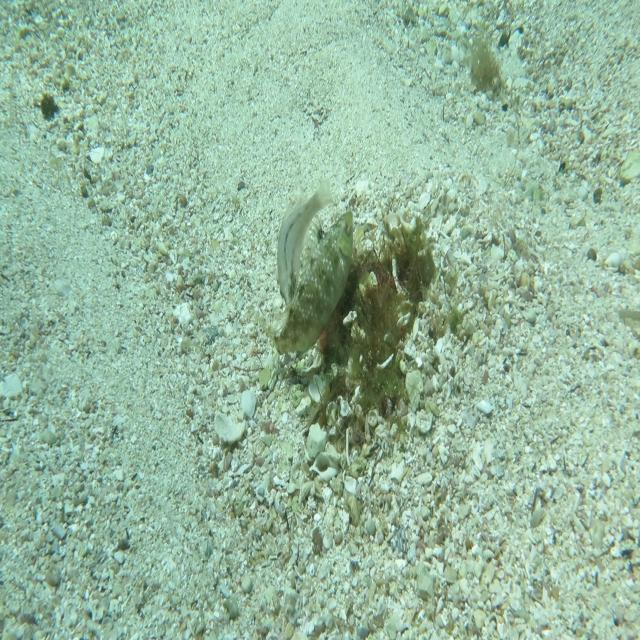DAN_CIRC: (254, 209, 355, 357)
core_nest: (384, 245, 429, 290)
female: (275, 175, 335, 309)
nest: (308, 198, 460, 452)
